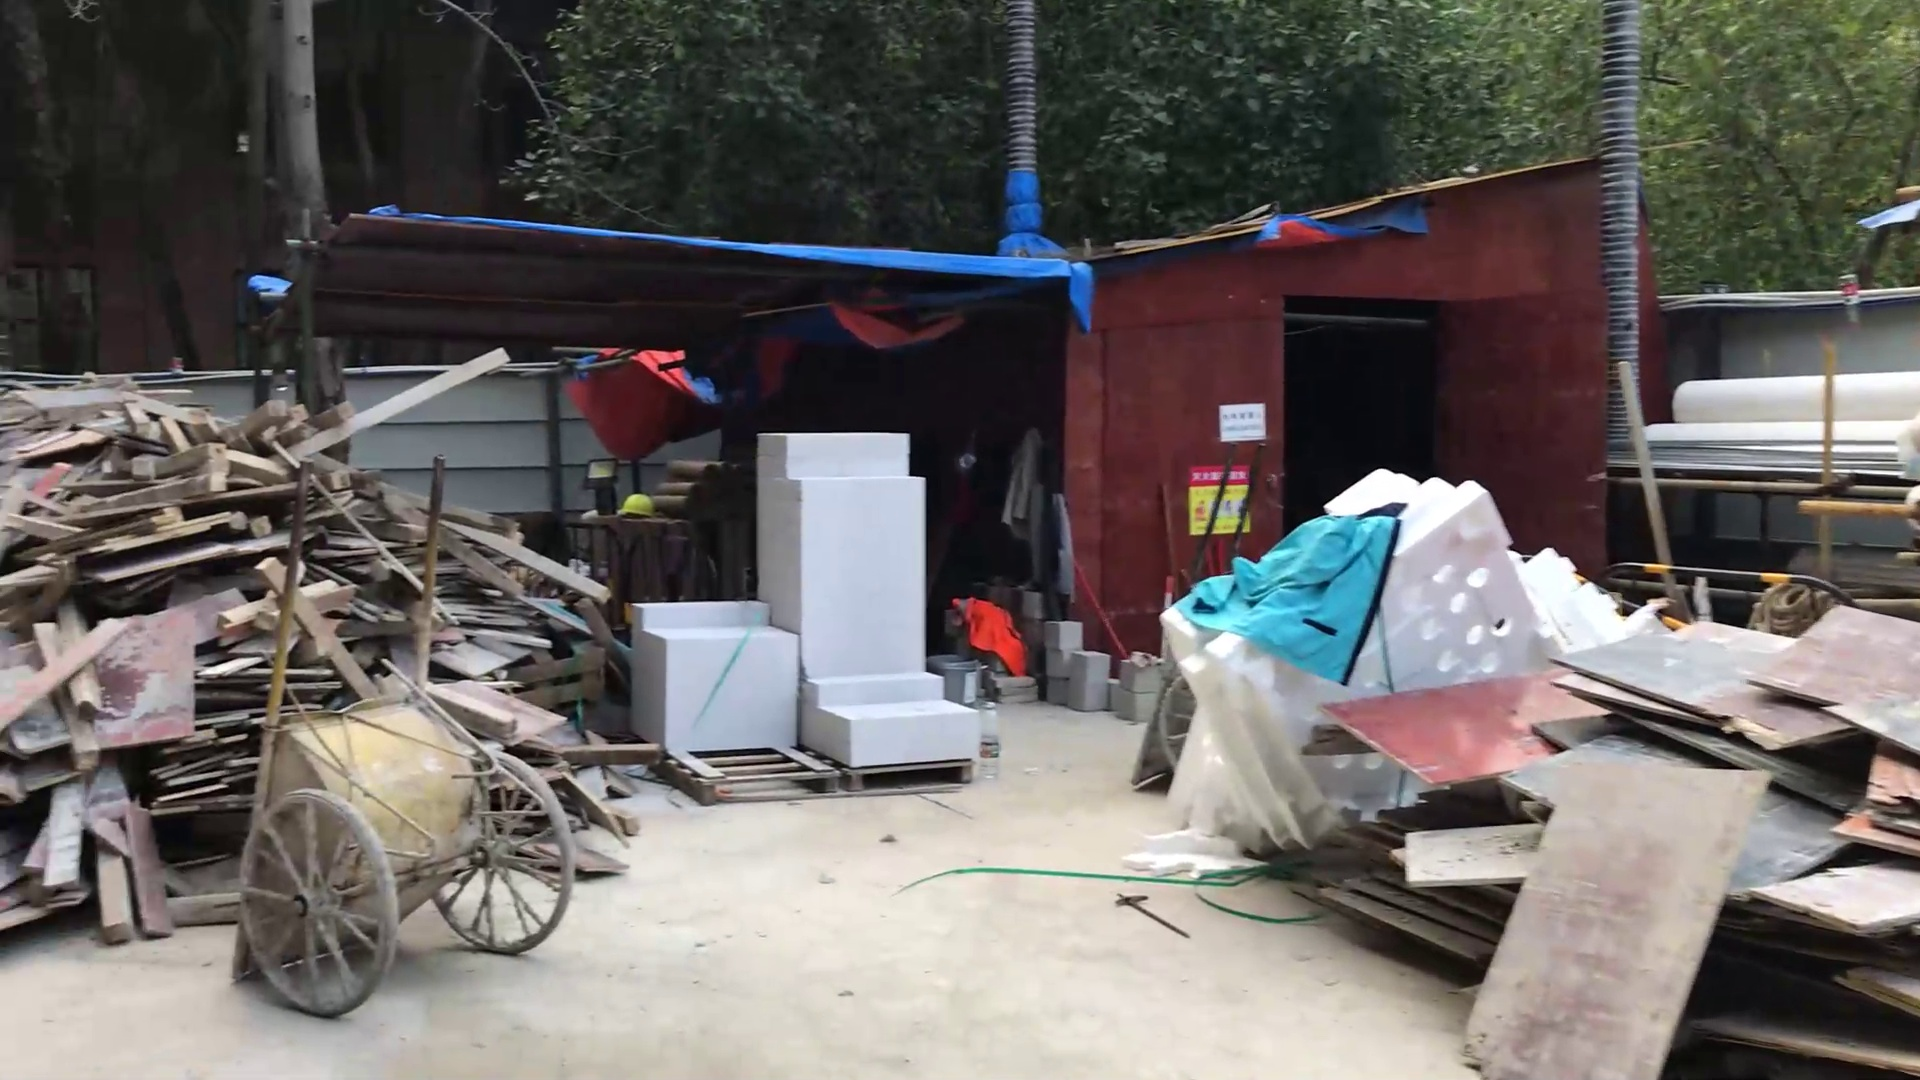brick: (622, 426, 986, 800)
handcart: (210, 440, 600, 1036)
